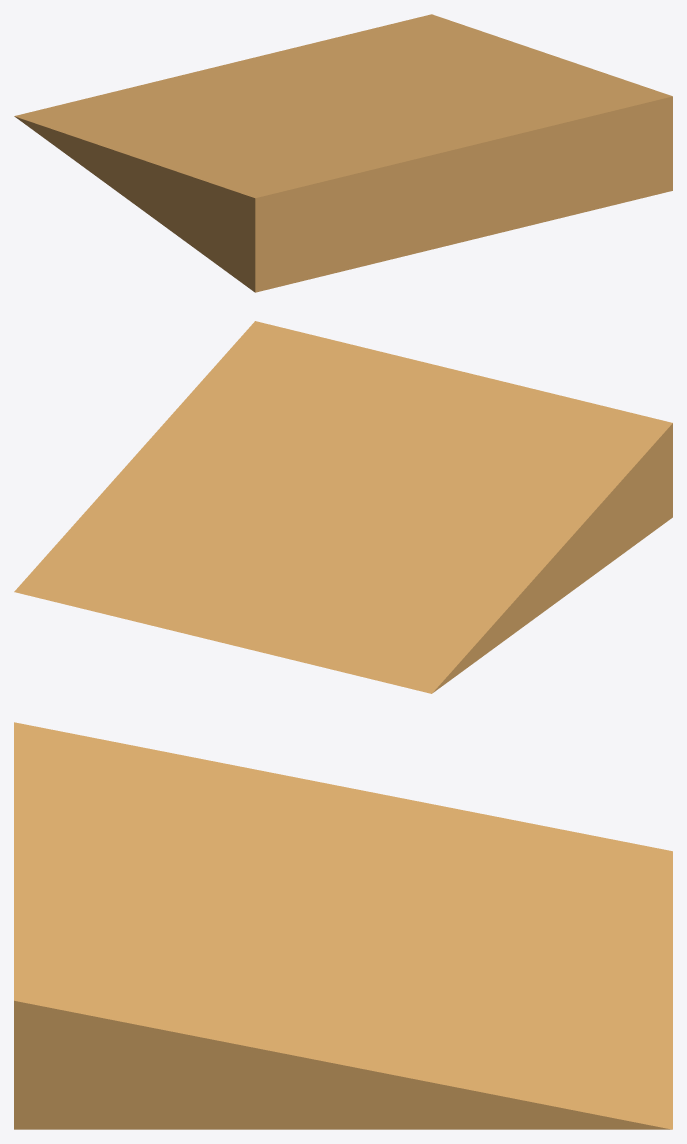
File: Rampa003.fbx
3 renders of one model, top to bottom at view 1: azimuth 30°, elevation 25°; view 2: azimuth 150°, elevation 25°; view 3: azimuth 270°, elevation 25°, orthographic. The views are drawn at different scales.
Visible parts, largest first — view 1: Cube.018; view 2: Cube.018; view 3: Cube.018.
Part boxes in pixels (<box>): Cube.018: <box>14,14,672,292</box>; Cube.018: <box>14,321,672,693</box>; Cube.018: <box>14,722,672,1129</box>.
Size of the model in its own units: 200 by 43.21 by 200.
